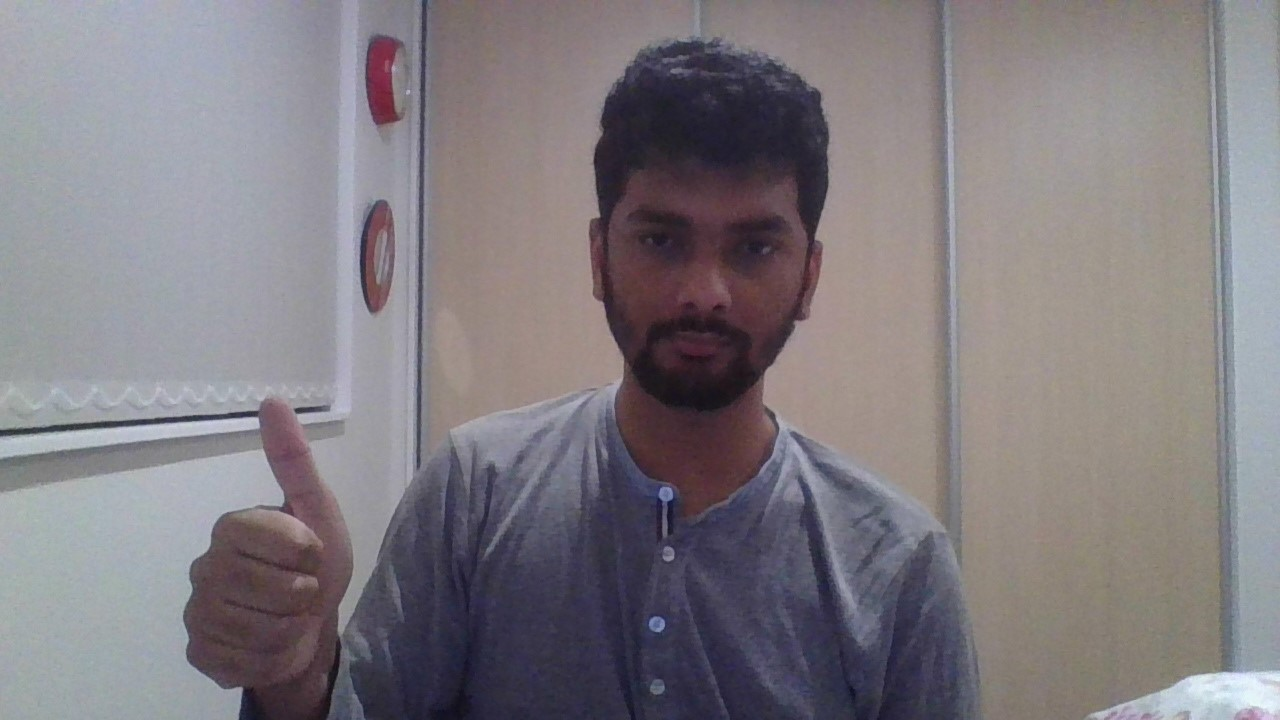good: (181, 400, 354, 688)
